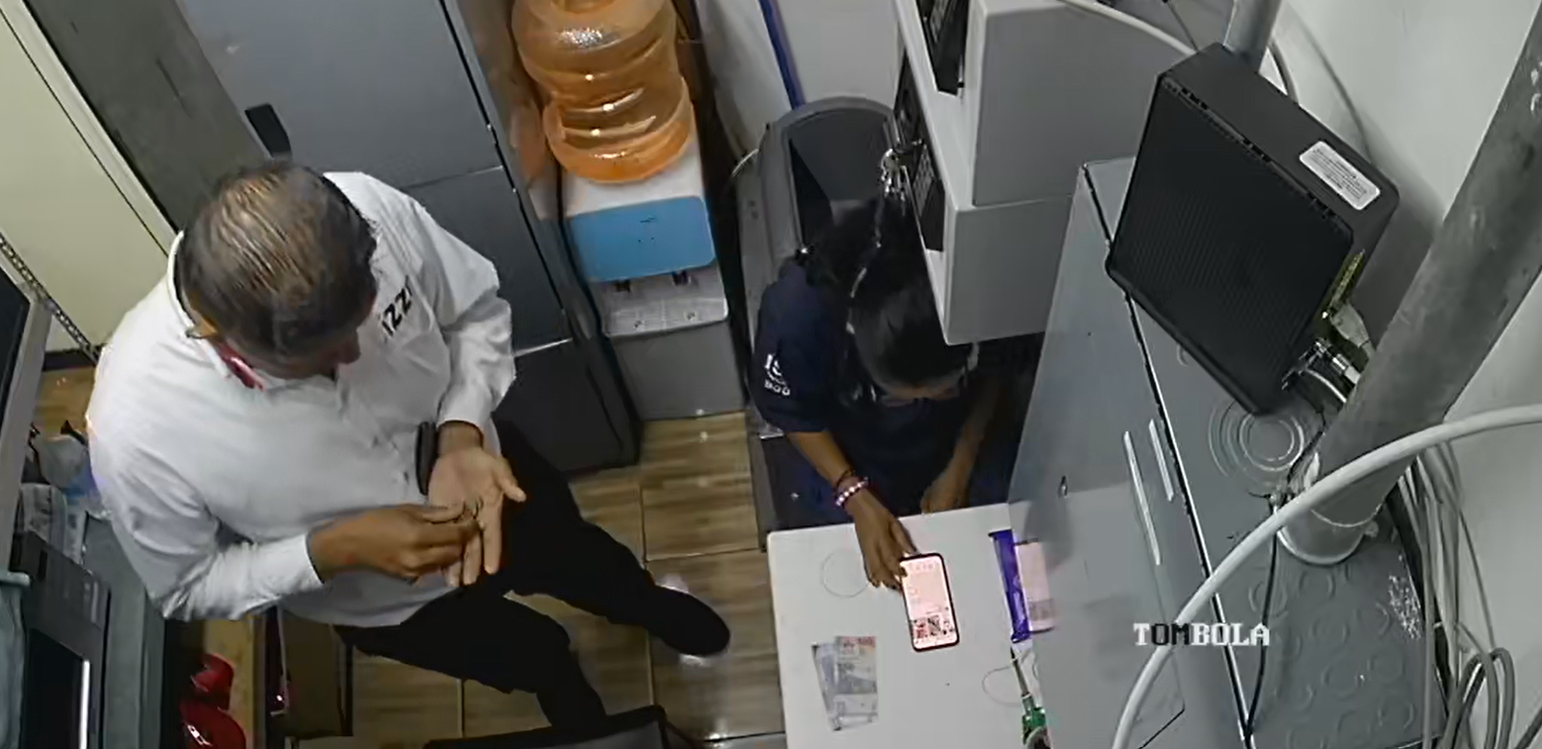billetes: (776, 595, 927, 746)
